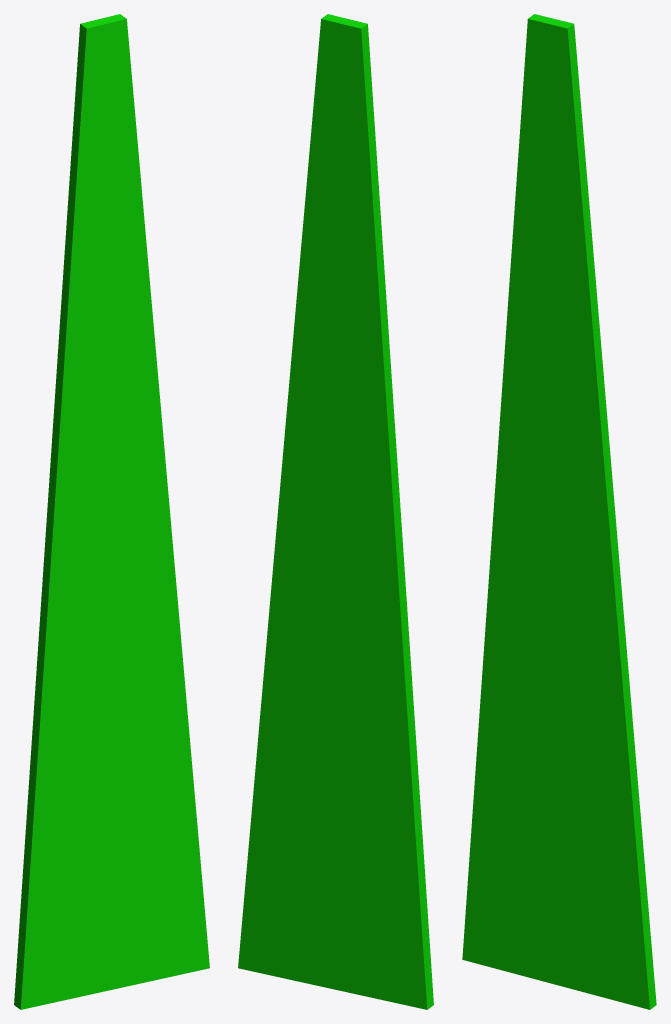
The model's file is grassFBI 1.fbx.
3 renders of one model, left to right at view 1: azimuth 30°, elevation 25°; view 2: azimuth 150°, elevation 25°; view 3: azimuth 330°, elevation 25°, orthographic.
Parts seen in each view (by area): view 1: Plane; view 2: Plane; view 3: Plane.
Part boxes in pixels (bbox=[...]): Plane: bbox=[14, 14, 209, 1009]; Plane: bbox=[238, 14, 433, 1009]; Plane: bbox=[462, 14, 656, 1009].
Size of the model in its own units: 40.48 by 198 by 2.48.
